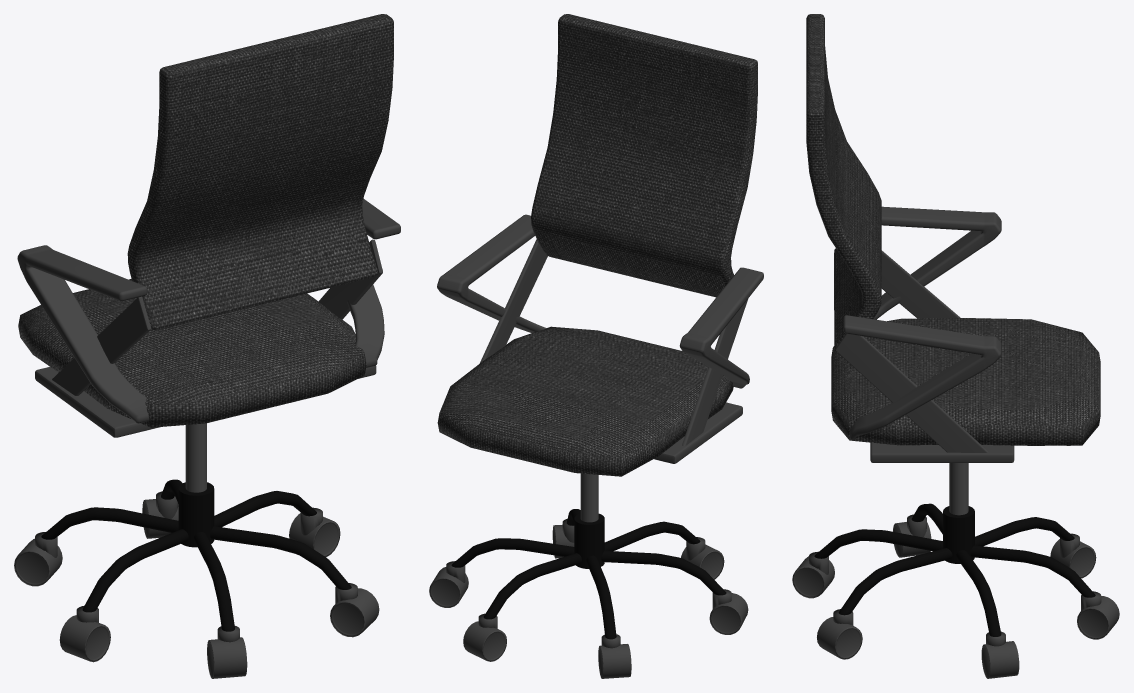
The model's file is smallChair.fbx.
The picture shows the model from 3 angles, left to right: view 1: azimuth 30°, elevation 25°; view 2: azimuth 150°, elevation 25°; view 3: azimuth 270°, elevation 25°; orthographic projection. The views are drawn at different scales.
Visible parts, largest first — view 1: smallChair; view 2: smallChair; view 3: smallChair.
Boxes of the visible parts, x1,y1,x2,y2 form: smallChair: [14, 14, 400, 678]; smallChair: [429, 14, 763, 678]; smallChair: [792, 14, 1119, 678].
Size of the model in its own units: 0.031 by 0.0574 by 0.0309.
Materials: 4 (1 with a texture image).
